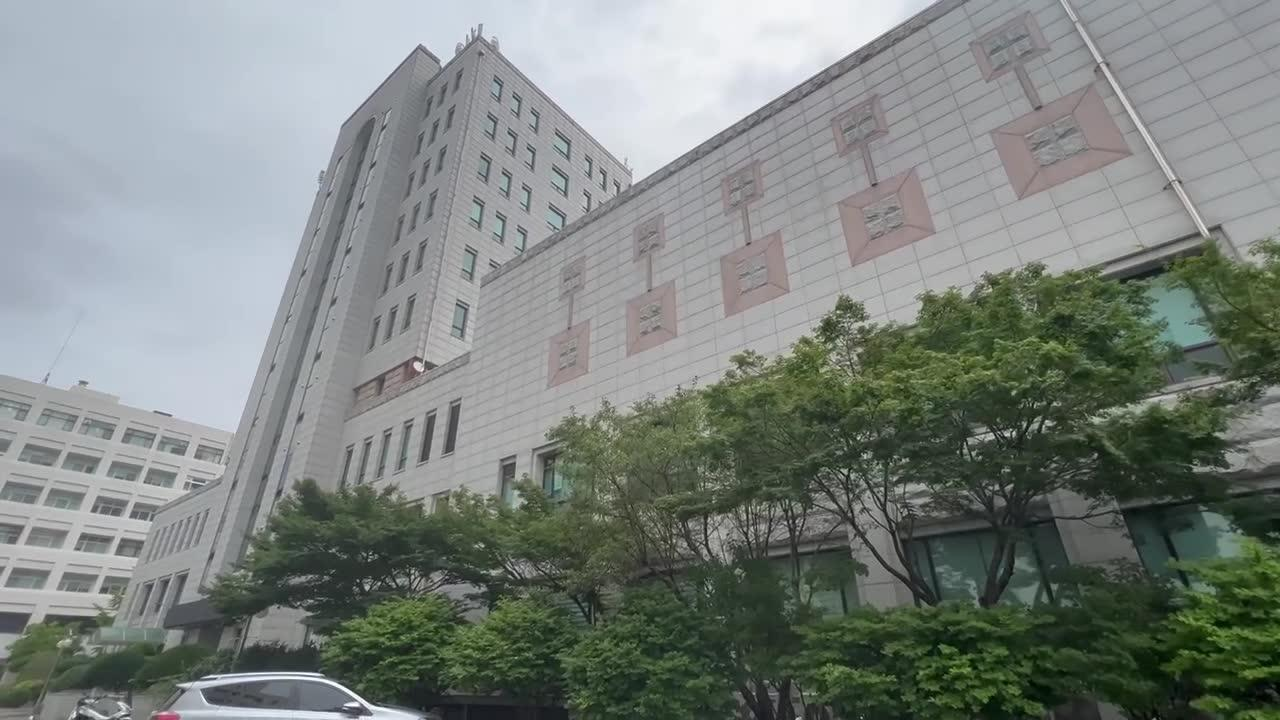building: (278, 17, 858, 359)
